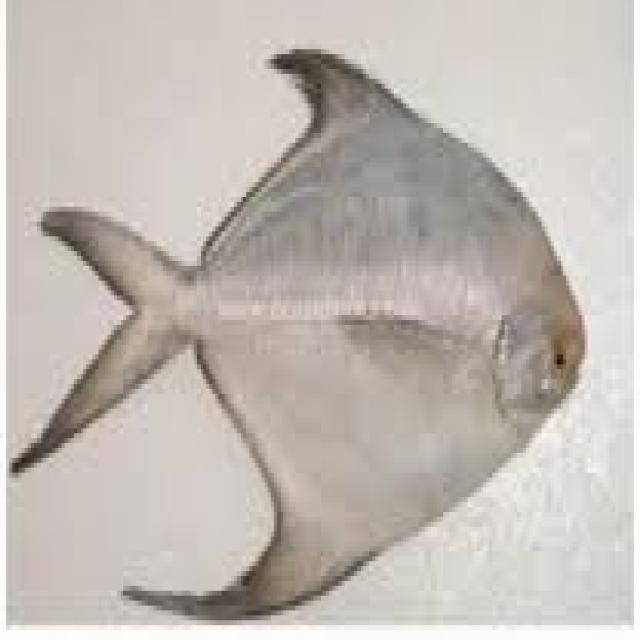pomfred: (16, 52, 588, 620)
